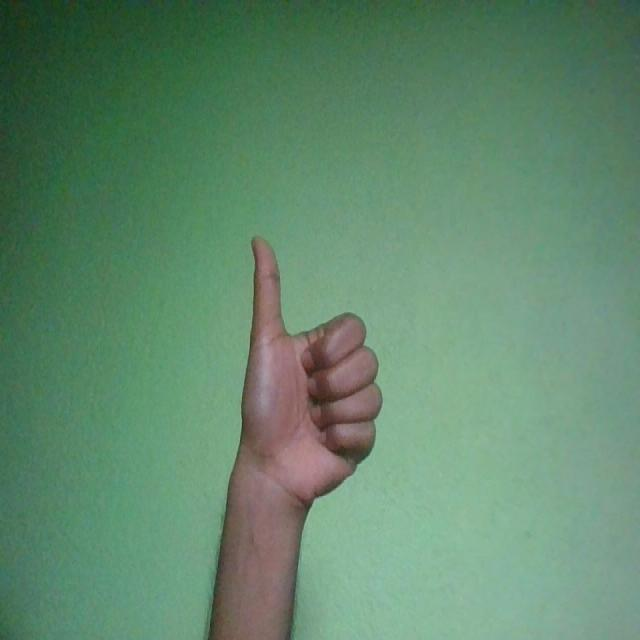Good Job: (241, 235, 383, 512)
